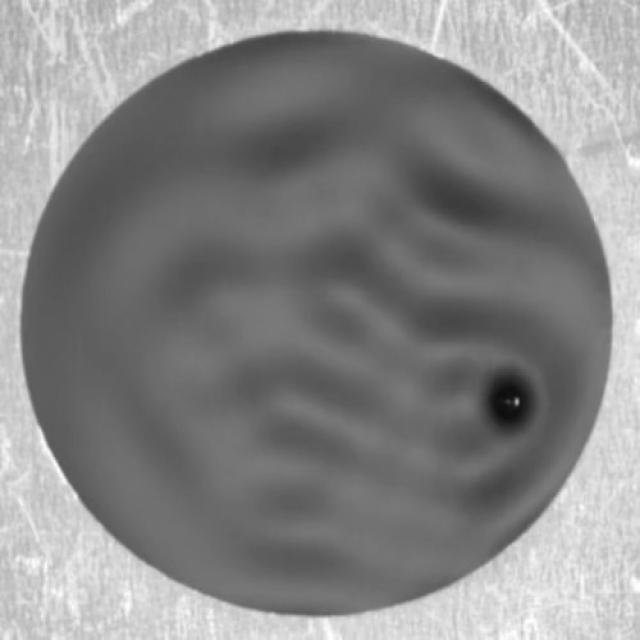droplet: (488, 379, 531, 429)
